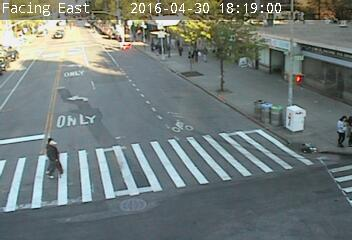neg: (91, 78, 114, 109), (56, 35, 79, 65), (228, 63, 247, 89), (239, 51, 257, 76), (119, 41, 137, 66), (94, 32, 112, 56), (25, 68, 43, 91), (243, 79, 259, 100), (23, 30, 36, 48), (43, 44, 47, 49)
